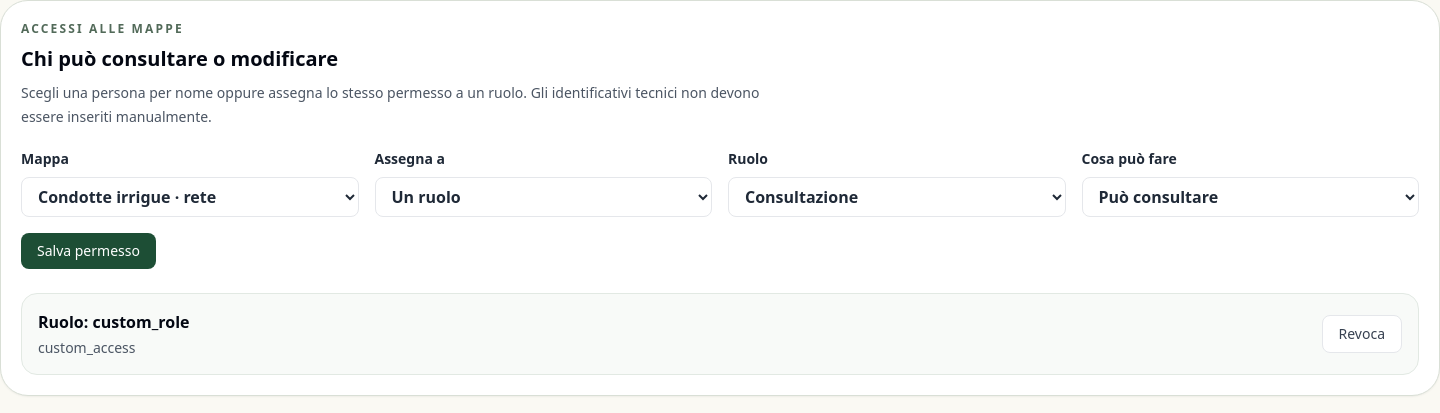
it: GisPermissionsPanel › uses readable label fallbacks and ignores late user and permission requests
The width and height of the screenshot is (1440, 413).
Expected: the text "Ruolo: custom_role" is shown, [38,310,190,334]
Expected: the text "custom_access" is shown, [38,338,136,357]
Select "Una persona" in the dropdown labelled "Assegna a" at x=543, y=197, box [374,177,712,217]
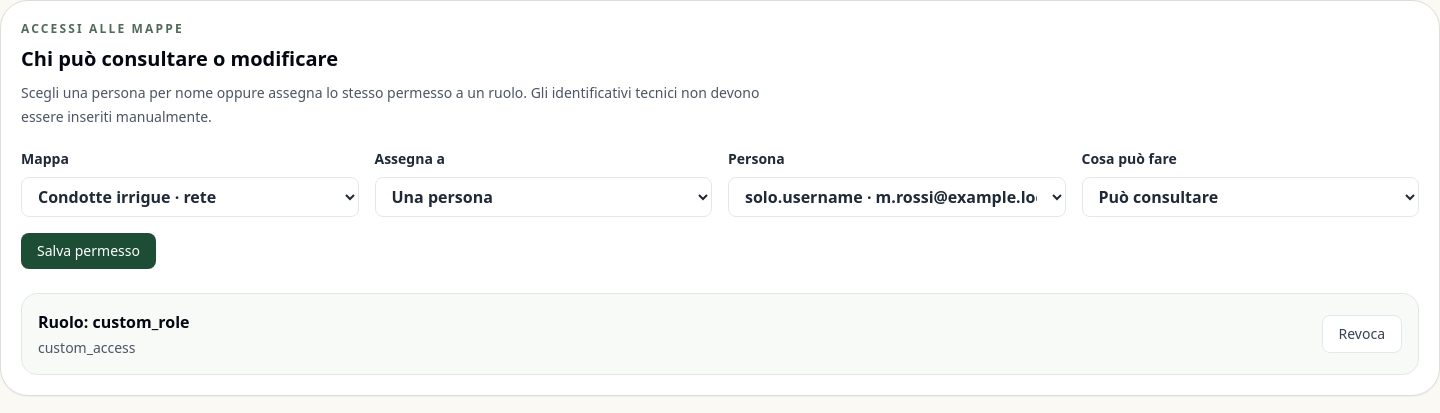
Select "Un ruolo" in the dropdown labelled "Assegna a" at x=543, y=197, box [374,177,712,217]
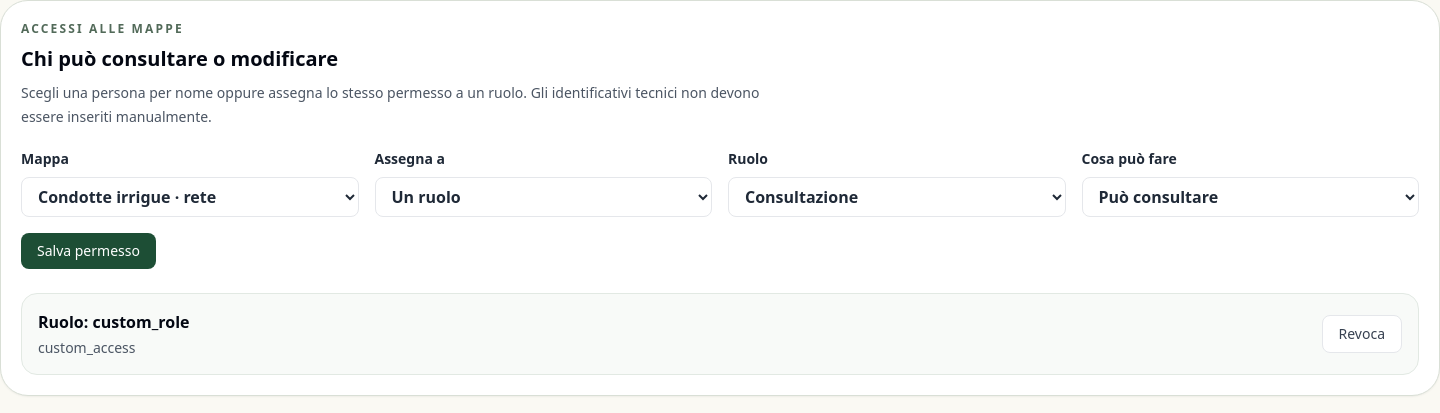
Expected: the dropdown labelled "Ruolo" shows "Consultazione", [728,177,1066,217]
